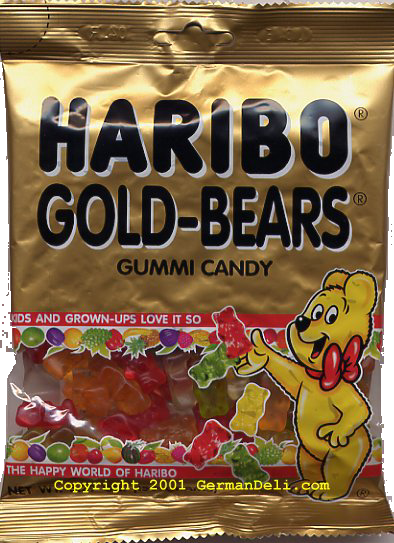grozi_66: (0, 0, 394, 542)
